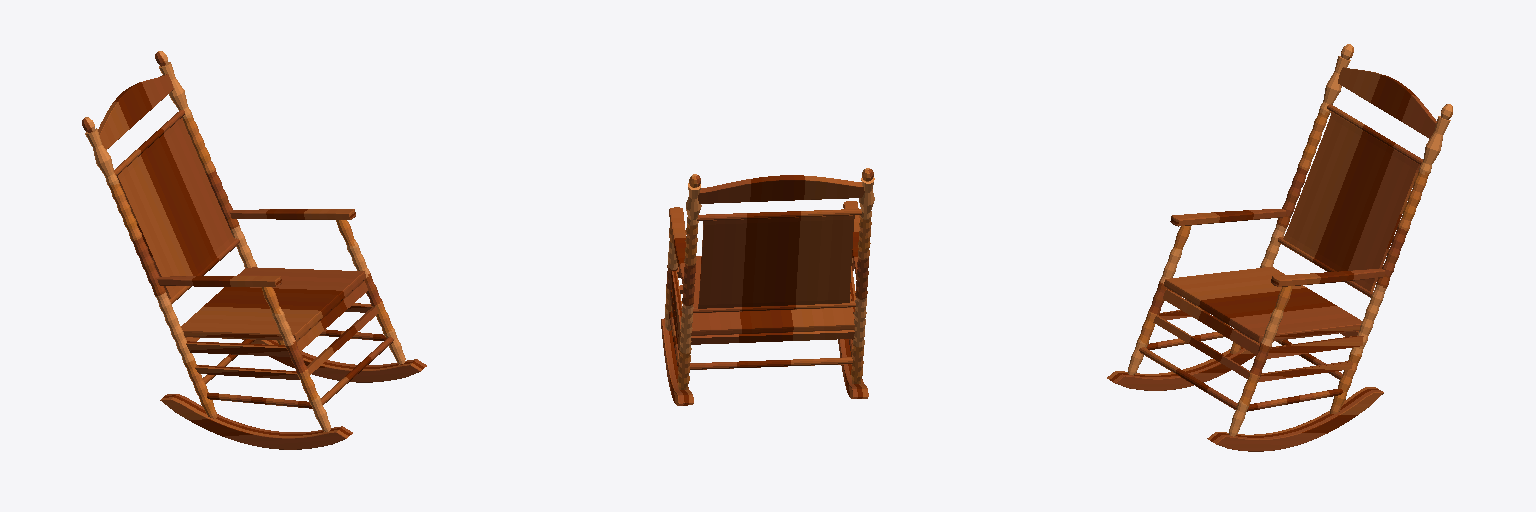
3 renders of one model, left to right at view 1: azimuth 30°, elevation 25°; view 2: azimuth 150°, elevation 25°; view 3: azimuth 270°, elevation 25°, orthographic.
Parts seen in each view (by area): view 1: chair:Object071; view 2: chair:Object071; view 3: chair:Object071.
Boxes of the visible parts, box(x1,y1,x2,y2) form: chair:Object071: box(82, 51, 426, 449); chair:Object071: box(661, 168, 874, 405); chair:Object071: box(1107, 44, 1452, 451).
Size of the model in its own units: 4.94 by 4.94 by 5.33.
2 materials, 2 textured.